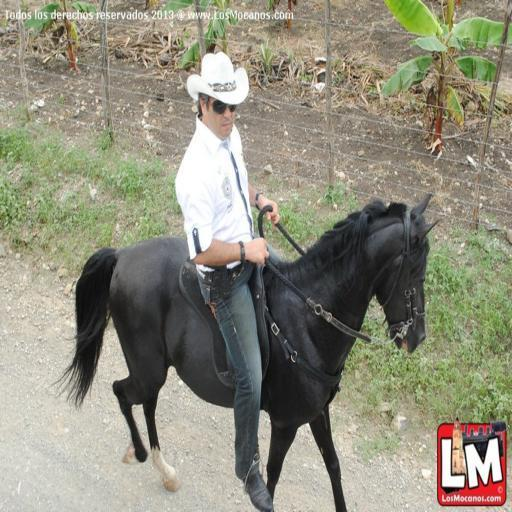horse: (48, 193, 442, 511)
